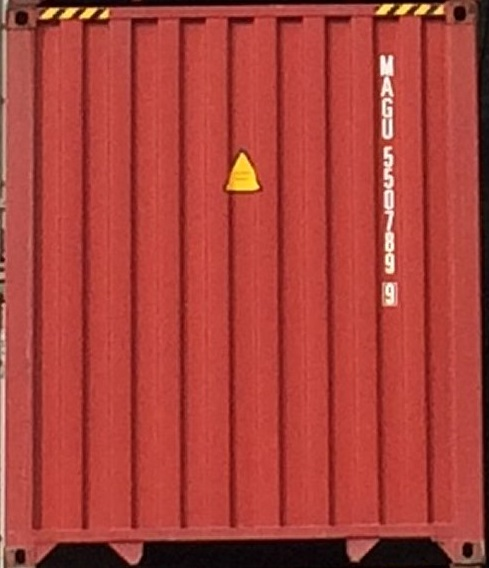container_no_door: (10, 3, 479, 563)
